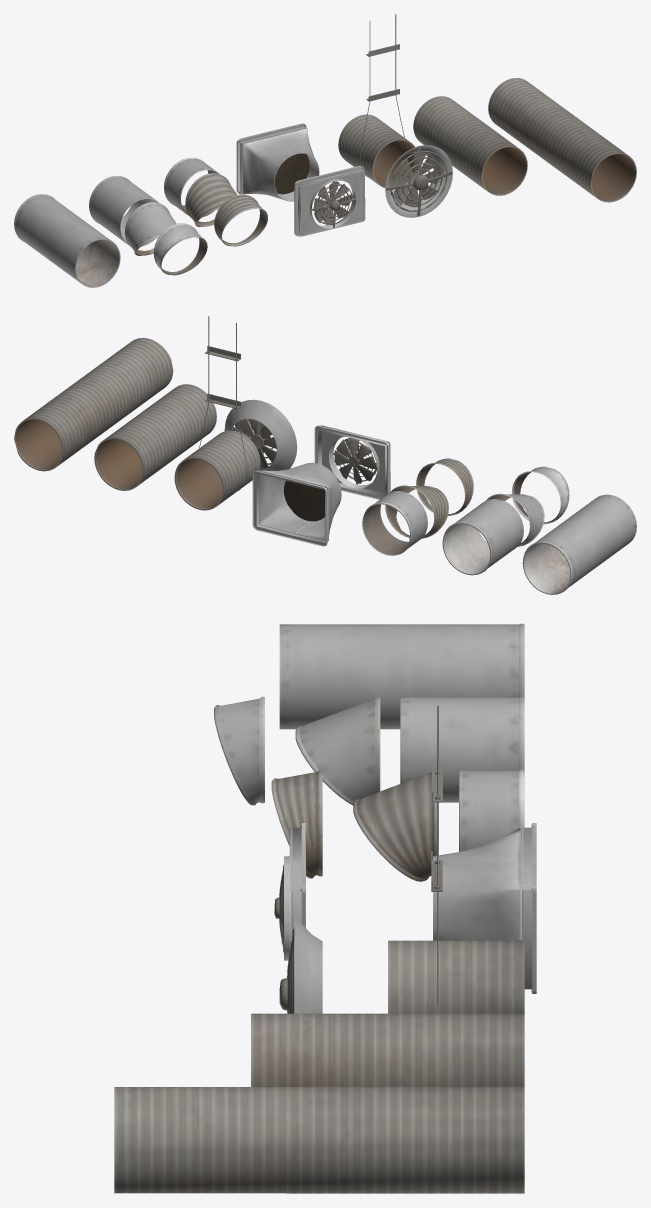
Rendered from modular_airduct_circular_01.glb.
3 views of the same model, one above another, from view 1: azimuth 30°, elevation 25°; view 2: azimuth 150°, elevation 25°; view 3: azimuth 270°, elevation 25° (orthographic). The views are drawn at different scales.
Parts seen in each view (by area): view 1: modular_airduct_rectangular_vent_fan; view 2: modular_airduct_rectangular_vent_fan; view 3: modular_airduct_rectangular_vent_fan.
Part boxes in pixels (x1,y1,x2,y2): modular_airduct_rectangular_vent_fan: [14, 14, 636, 287]; modular_airduct_rectangular_vent_fan: [14, 316, 636, 594]; modular_airduct_rectangular_vent_fan: [114, 623, 536, 1193].
Bounding box in the file's own units: 4.17 × 1.32 × 1.46.
1 material, 1 textured.
